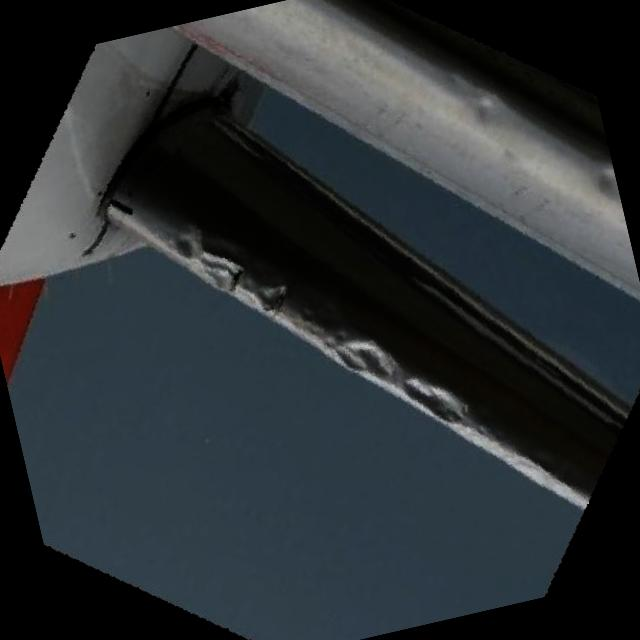dent: (392, 365, 472, 432), (332, 322, 408, 388), (197, 242, 253, 295), (464, 85, 511, 129), (251, 270, 292, 314), (170, 227, 210, 270), (589, 165, 618, 198)
